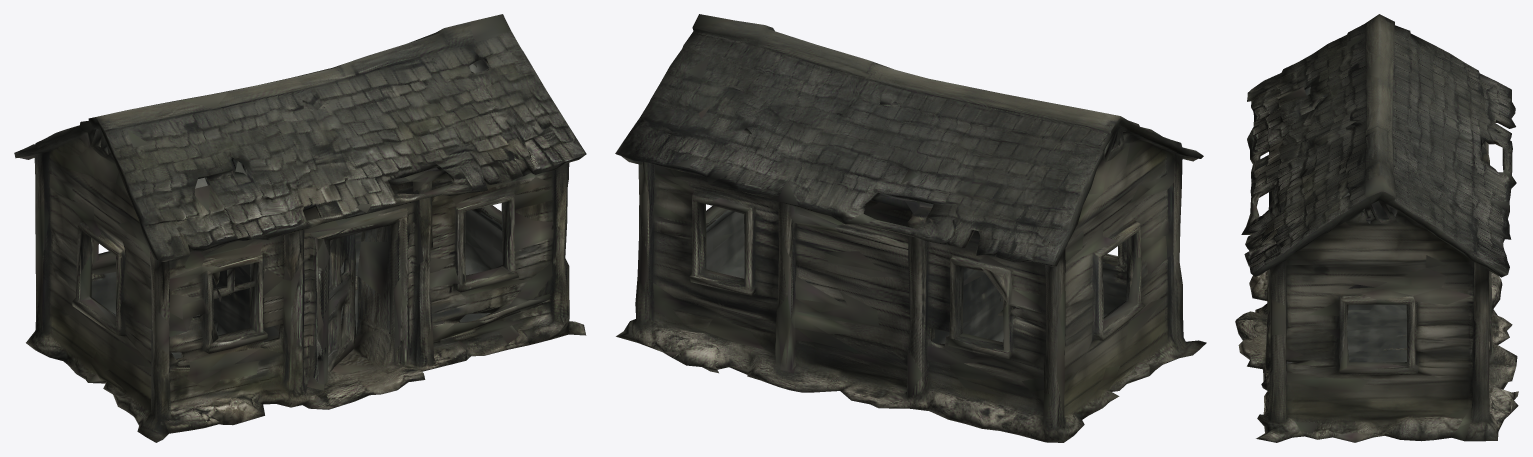
File: Meshy_AI_The_Weathered_Shack_0315152304_texture.fbx
3 views of the same model, side by side, from view 1: azimuth 30°, elevation 25°; view 2: azimuth 150°, elevation 25°; view 3: azimuth 270°, elevation 25° (orthographic). The views are drawn at different scales.
Parts seen in each view (by area): view 1: Mesh_0; view 2: Mesh_0; view 3: Mesh_0.
Part boxes in pixels (left/top/right/bottom): Mesh_0: left=14, top=14, right=586, bottom=442; Mesh_0: left=615, top=14, right=1206, bottom=442; Mesh_0: left=1235, top=14, right=1518, bottom=442.
Size of the model in its own units: 191 by 113 by 118.
1 material, 1 textured.
